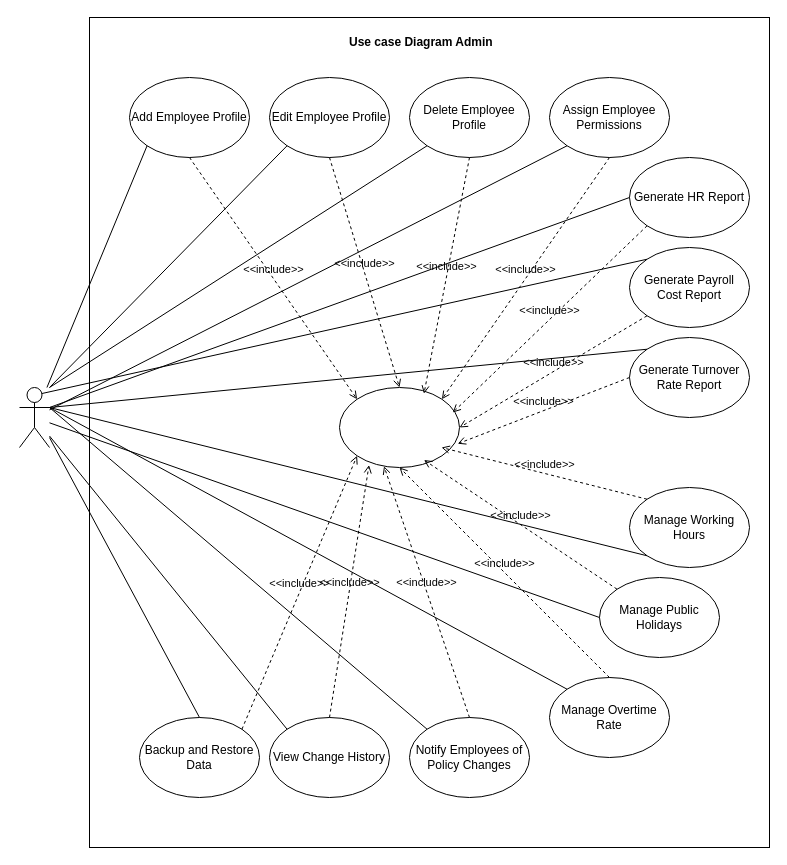
Some shapes in this 787 by 865 pixel diagram are drawn without their labels. Each missing label, with the centre of its shape:
"Admin" goes at point 34,417.
"Login" goes at point 399,427.
